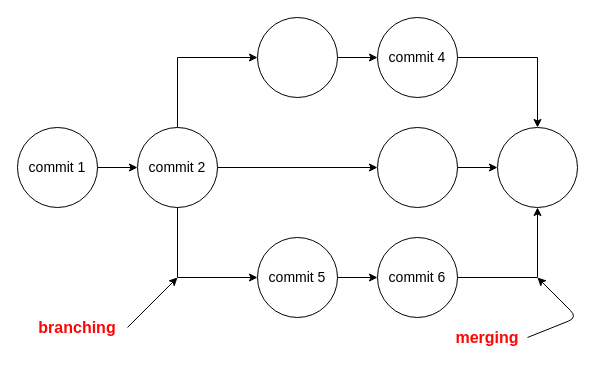
This 603x365 diagram has some shape labels left out. The shapes that lost their labels are listed below. From the top down, each one's centre as x and y in pixels, then its label:
point 297,57: commit 3
point 417,167: commit 7
point 537,167: commit 8
